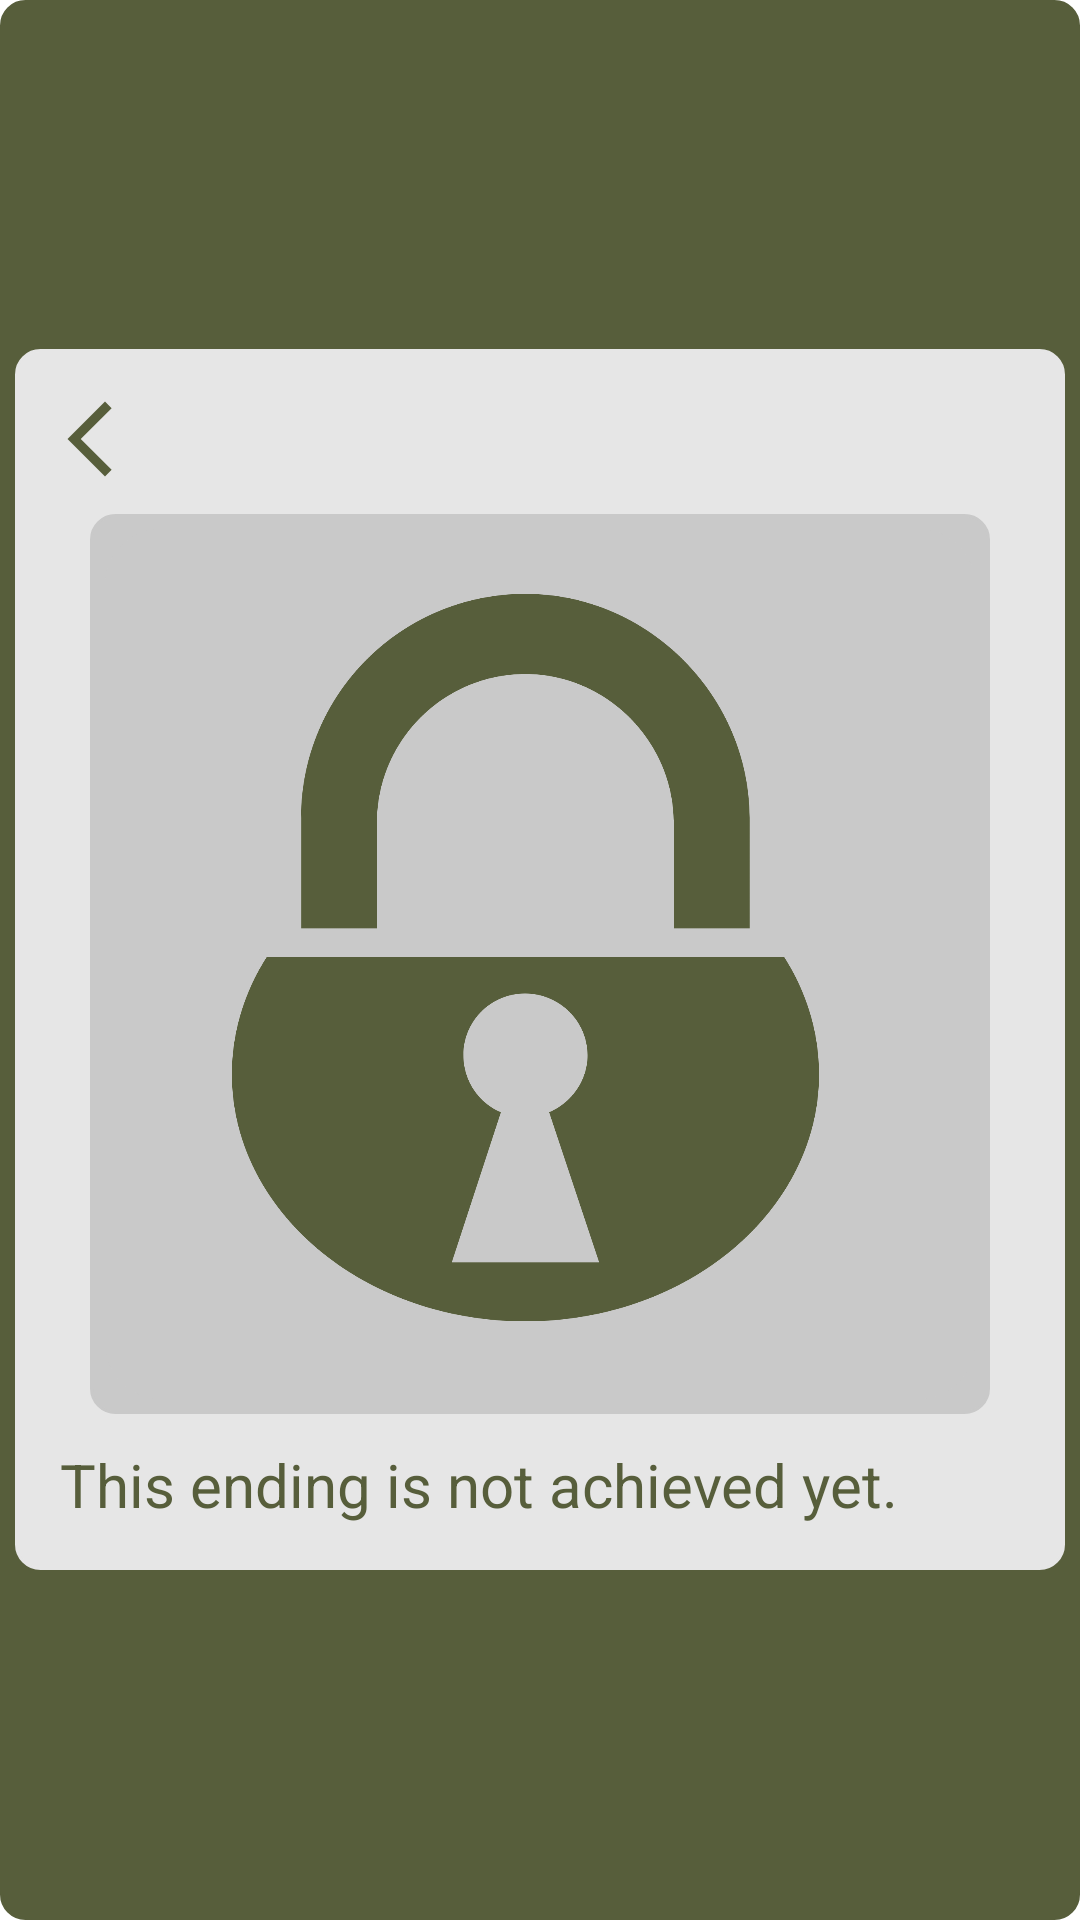

Icon click points for this 1080 x 1920 phone screenshot, format (x=x, y=y):
Go back: (x=90, y=439)
